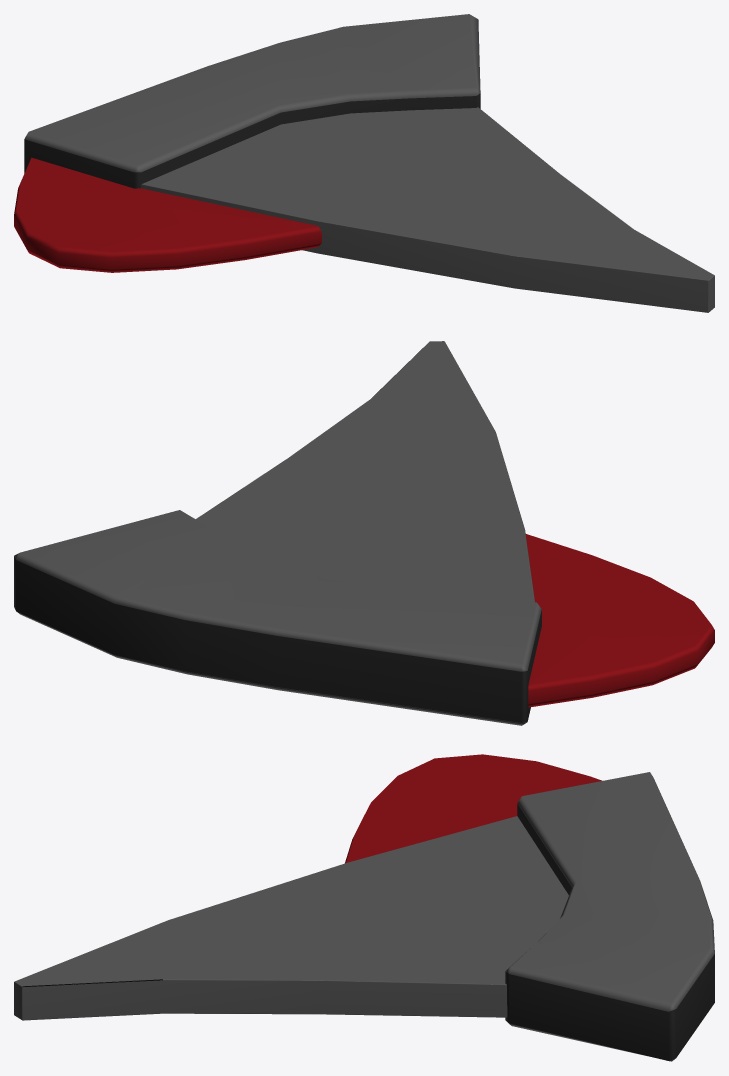
The model's file is Spaceship_main_01_Wing_R.fbx.
3 views of the same model, one above another, from view 1: azimuth 30°, elevation 25°; view 2: azimuth 150°, elevation 25°; view 3: azimuth 270°, elevation 25° (orthographic). The views are drawn at different scales.
Parts seen in each view (by area): view 1: Spaceship_main_01_Wing_R; view 2: Spaceship_main_01_Wing_R; view 3: Spaceship_main_01_Wing_R.
Part boxes in pixels (left/top/right/bottom): Spaceship_main_01_Wing_R: left=14, top=14, right=714, bottom=312; Spaceship_main_01_Wing_R: left=14, top=341, right=714, bottom=725; Spaceship_main_01_Wing_R: left=14, top=754, right=714, bottom=1061.
Size of the model in its own units: 205 by 20.77 by 221.
